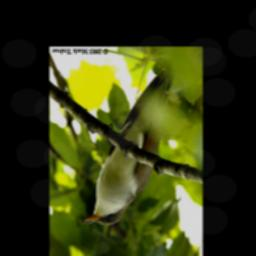Cuckoo: (80, 63, 177, 227)
